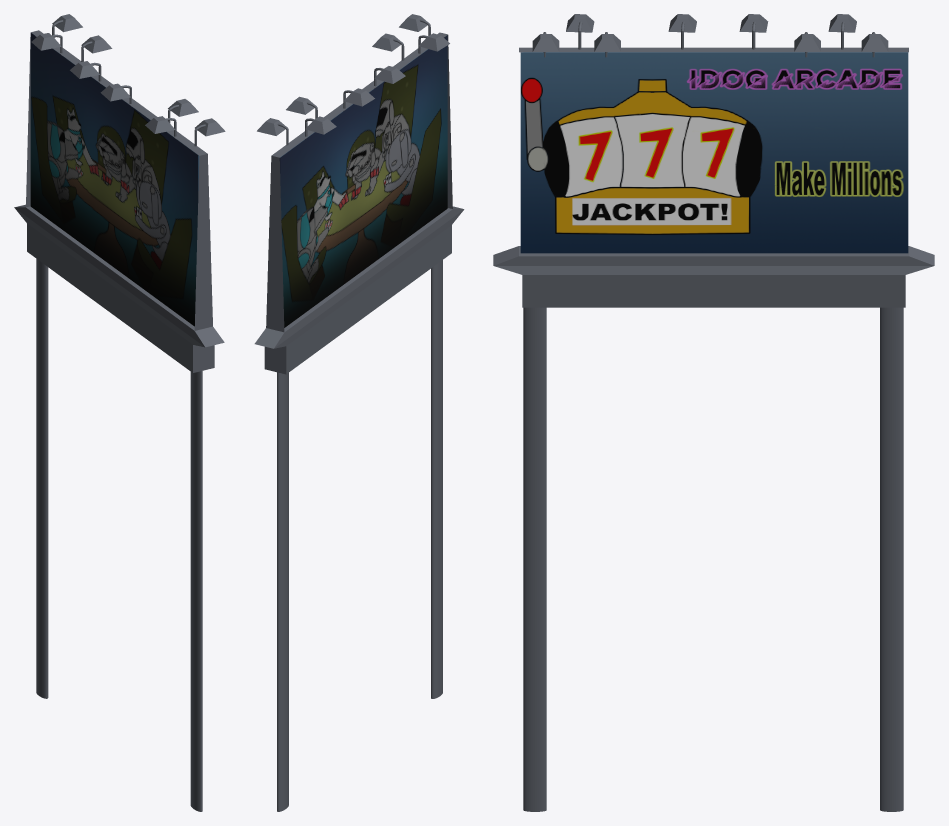
File: slot_dog poker billboard.fbx
3 views of the same model, side by side, from view 1: azimuth 30°, elevation 25°; view 2: azimuth 150°, elevation 25°; view 3: azimuth 270°, elevation 25° (orthographic). The views are drawn at different scales.
Parts seen in each view (by area): view 1: Cube.001; view 2: Cube.001; view 3: Cube.001.
Boxes of the visible parts, bbox=[...] form: Cube.001: bbox=[14, 14, 225, 811]; Cube.001: bbox=[254, 14, 464, 811]; Cube.001: bbox=[493, 14, 934, 811].
Bounding box in the file's own units: 412 × 4793 × 2446.
